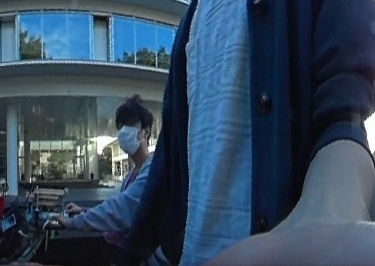person: (94, 92, 162, 266)
